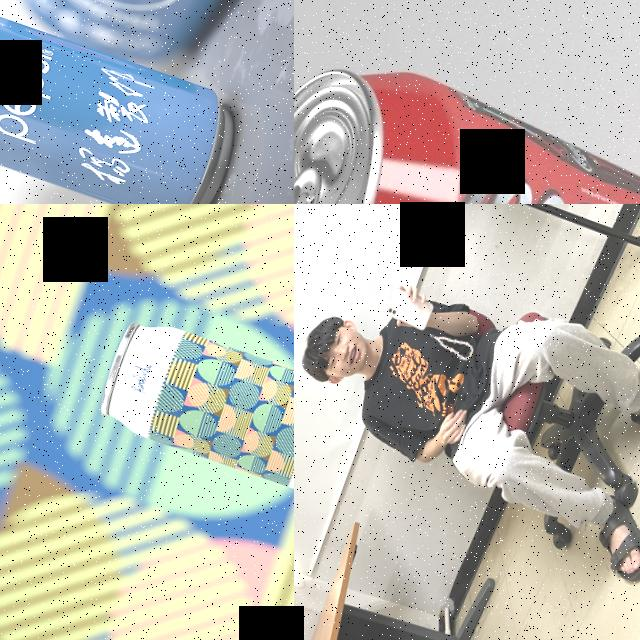can: (294, 24, 640, 204), (0, 0, 259, 204), (90, 308, 294, 527), (0, 0, 294, 93)
